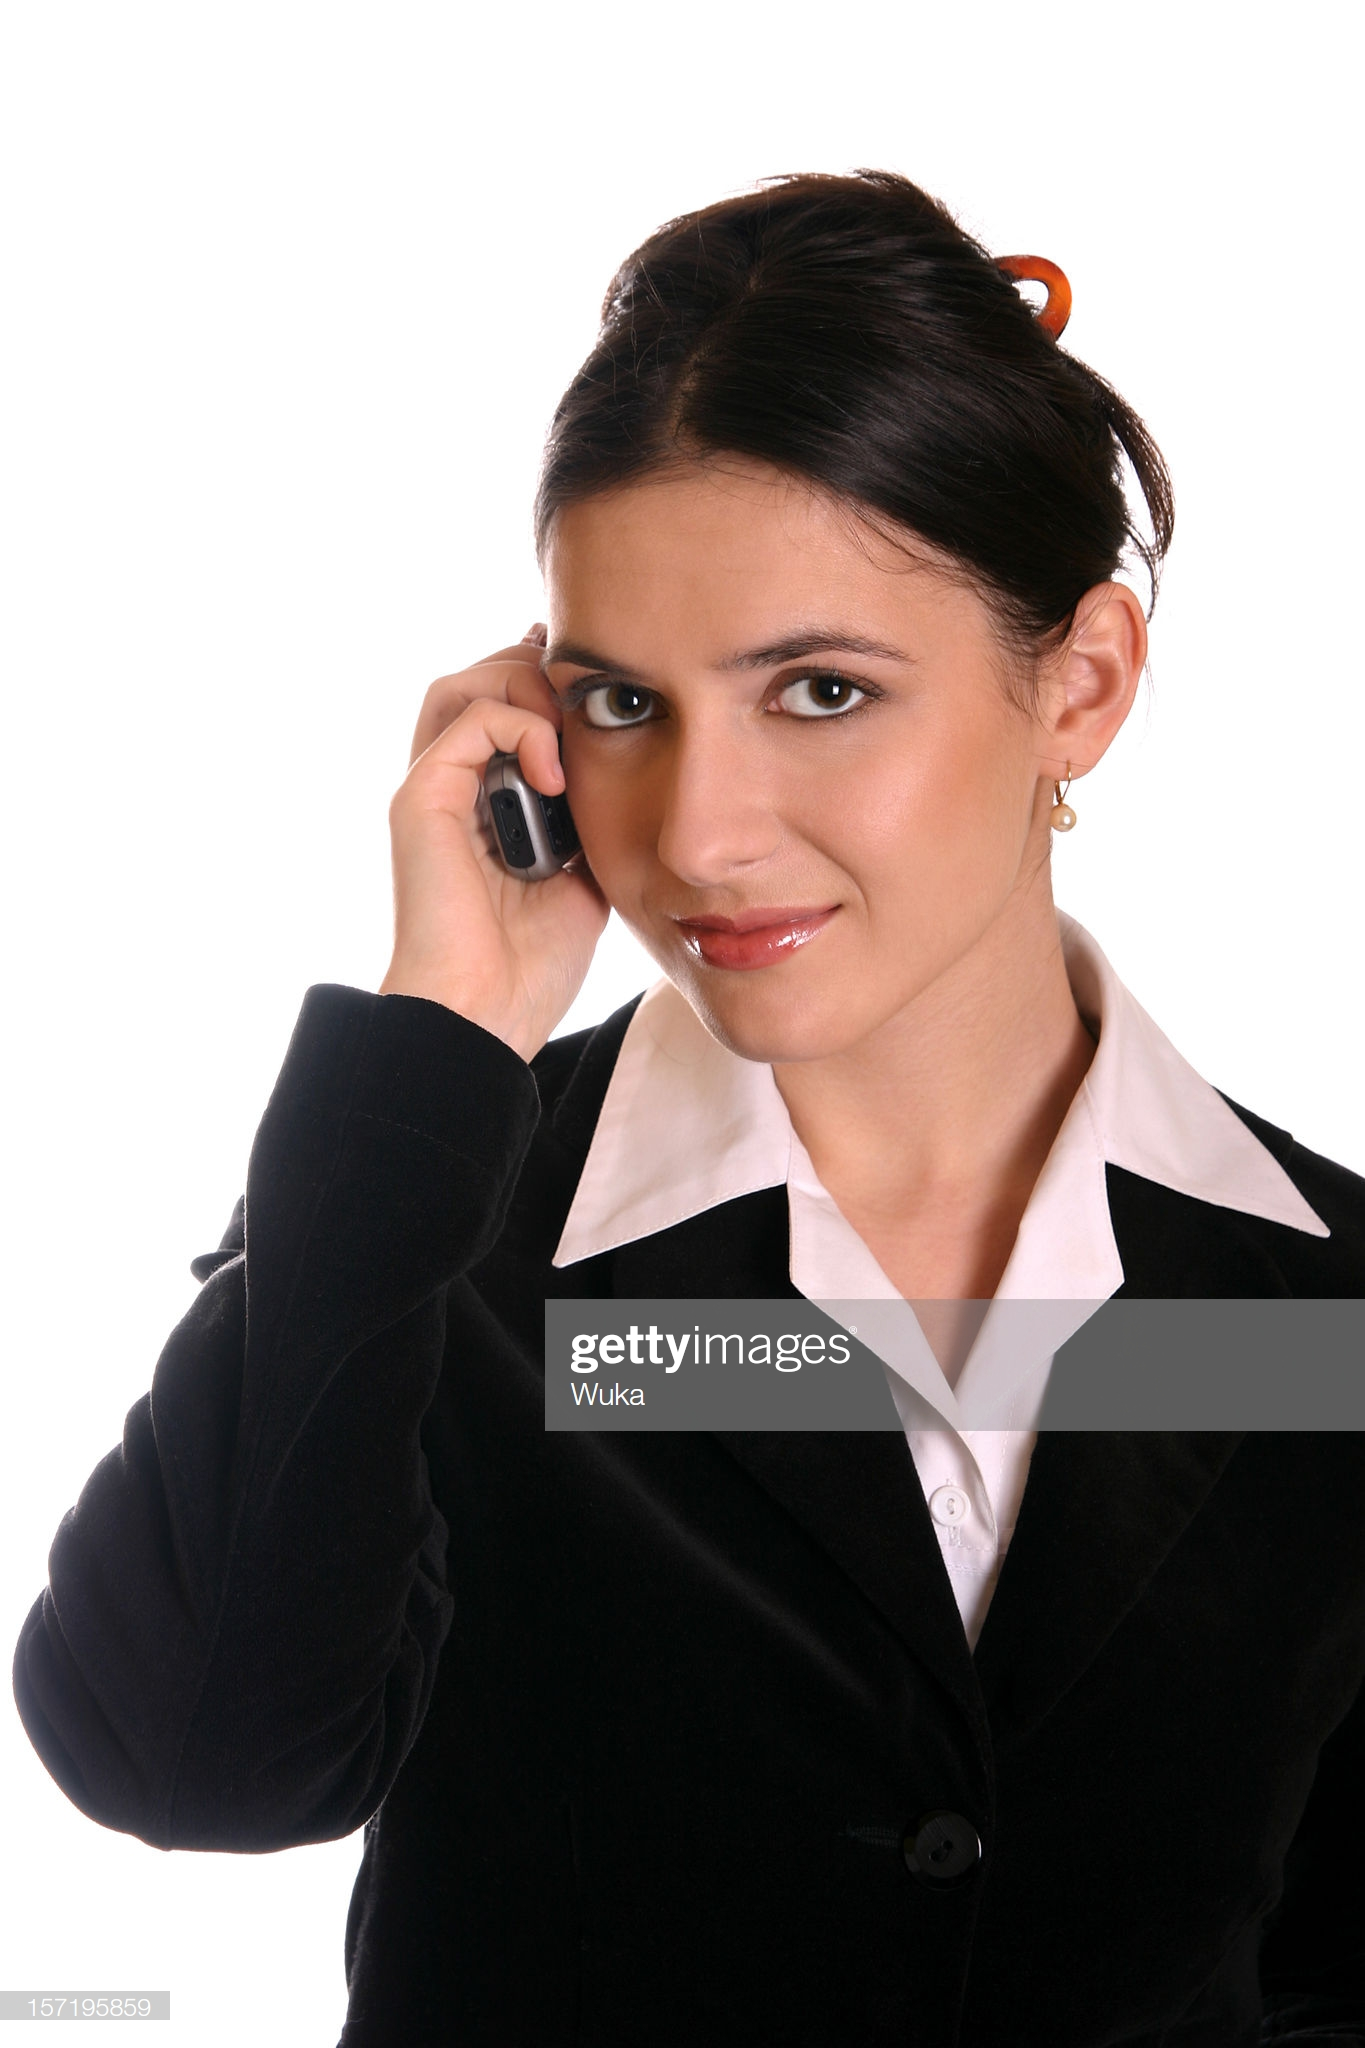phone: (427, 659, 611, 994)
talk: (370, 568, 973, 1092)
